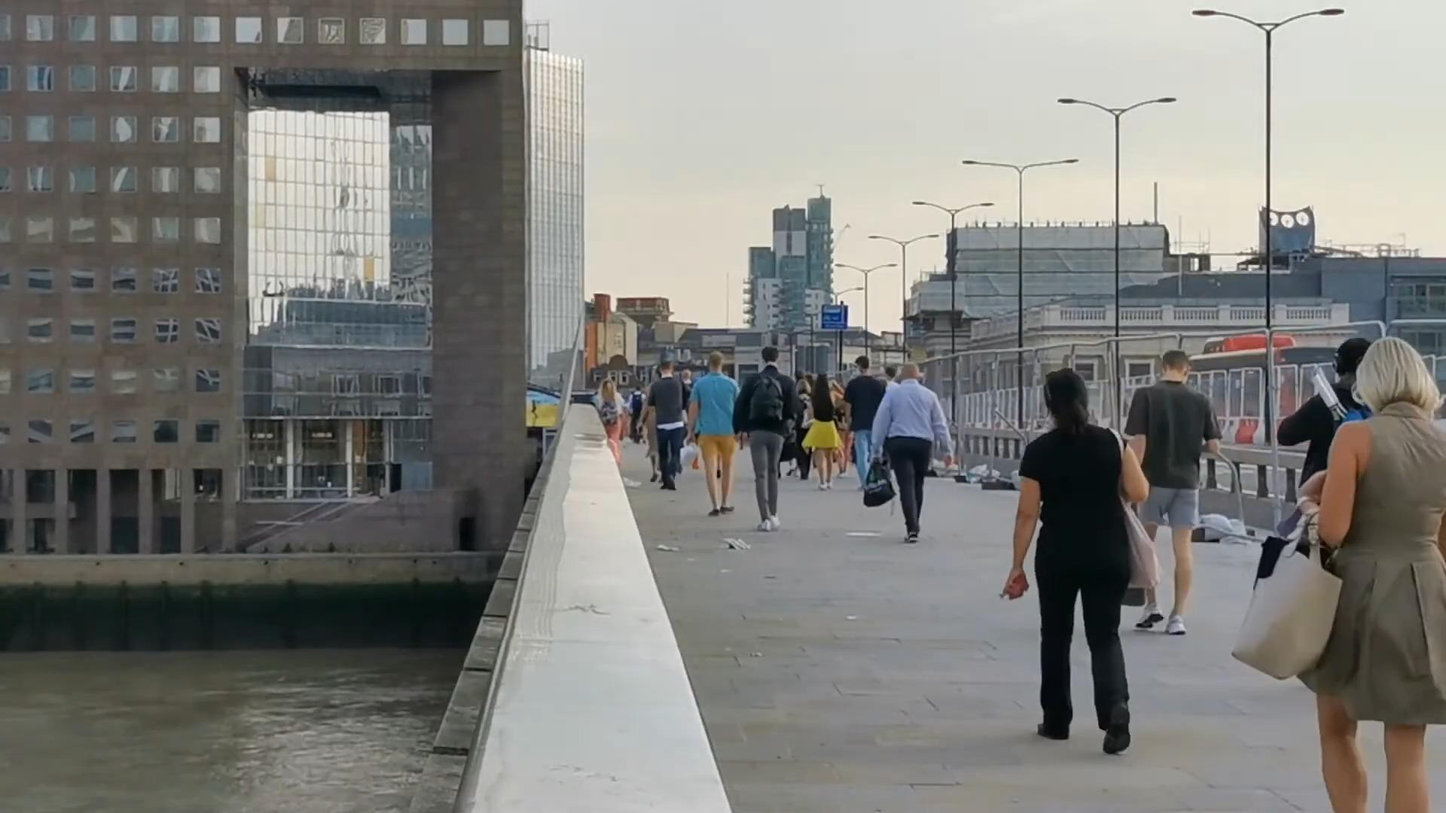no-helmet: (1351, 337, 1446, 414), (1043, 368, 1090, 424), (1161, 350, 1193, 379), (900, 362, 919, 382), (761, 346, 779, 364), (815, 373, 829, 396), (600, 378, 616, 398), (708, 350, 724, 370), (659, 361, 674, 375)
